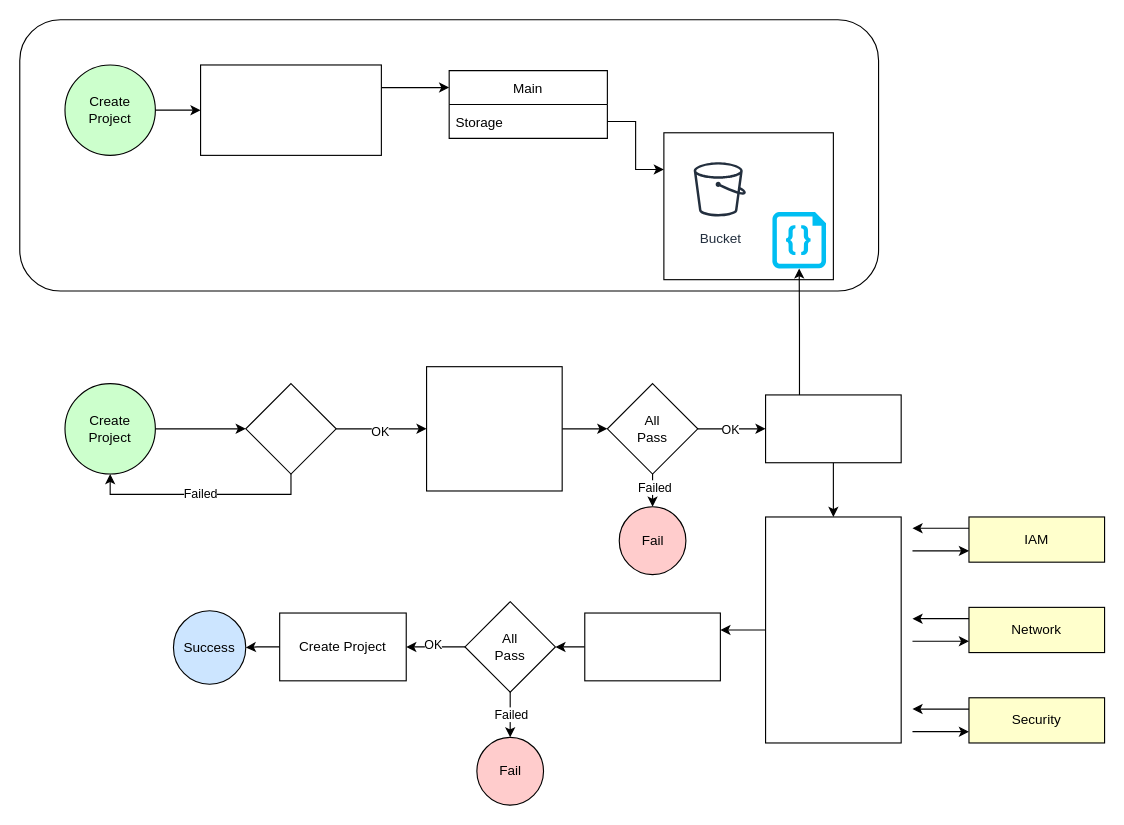
This 1124x825 diagram has some shape labels left out. Here are the shapes that lost their labels. From the top down, the centre of each, then its label:
At point (290, 109): "Create Project To storage Terraform State".
At point (290, 428): "Regex Name?".
At point (493, 428): "Check User Group BillingAccount".
At point (832, 428): "Store Initial State".
At point (652, 646): "Terraform Lint Check".
At point (832, 629): "Download Modules".
